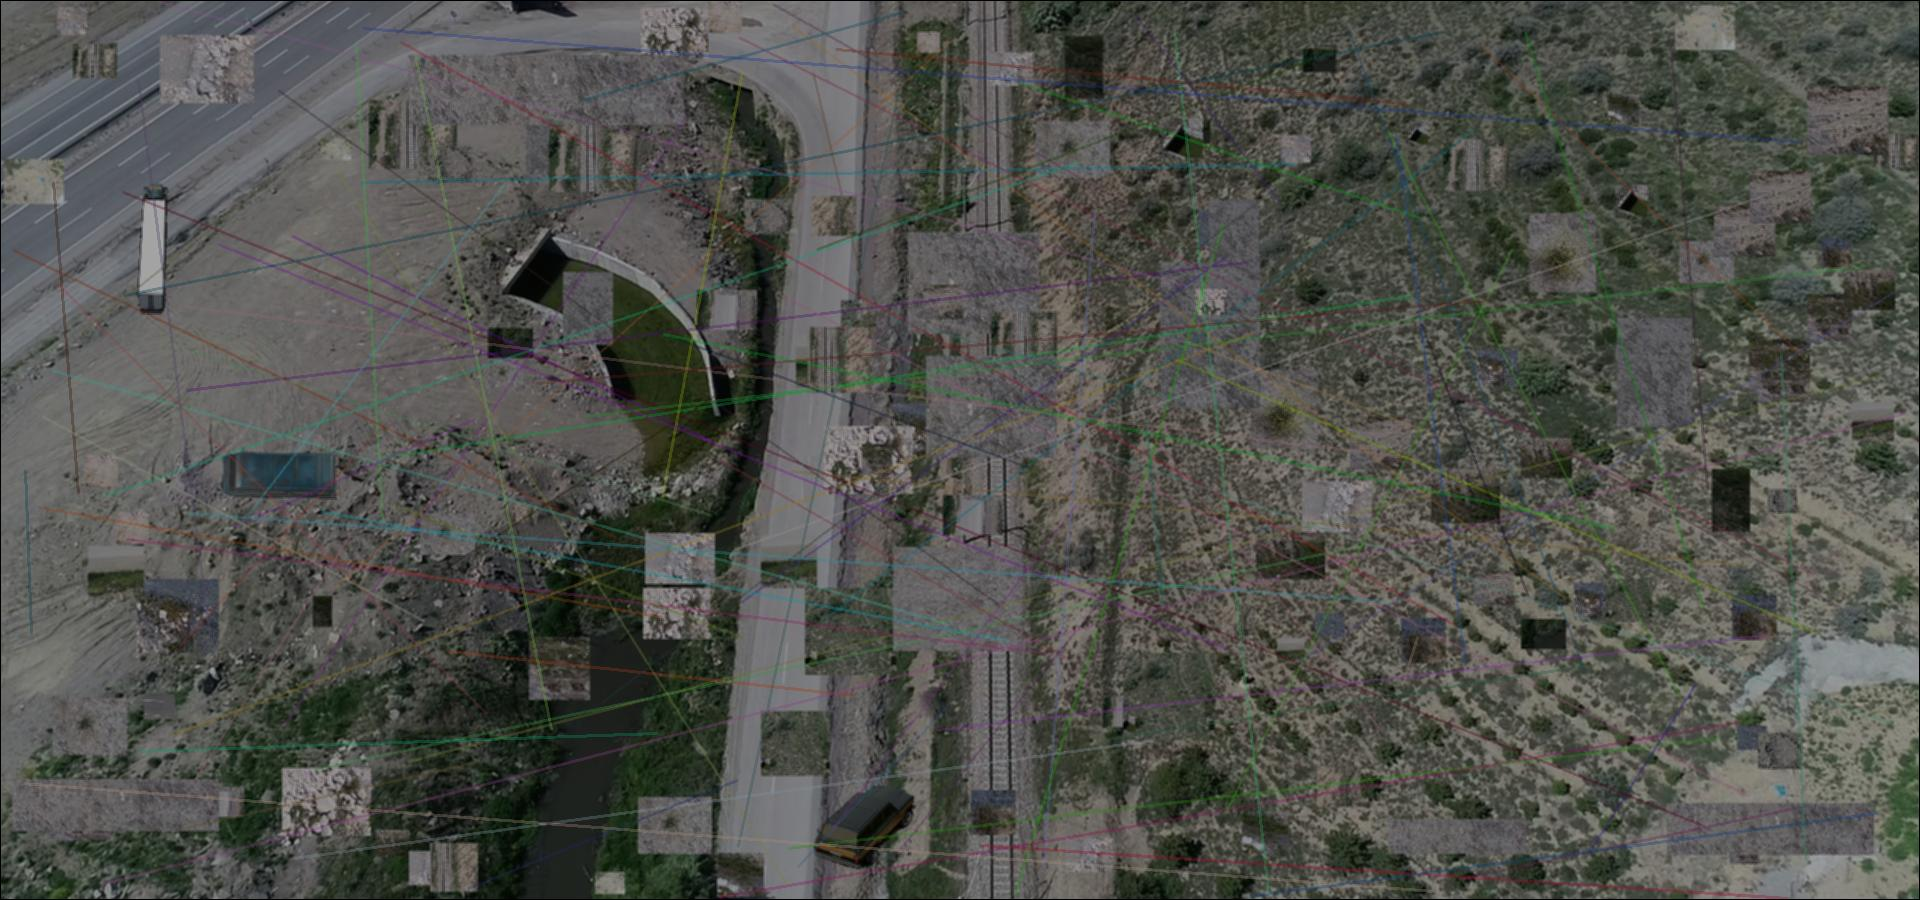arac: (814, 782, 918, 871), (218, 447, 340, 502), (133, 181, 169, 313)
